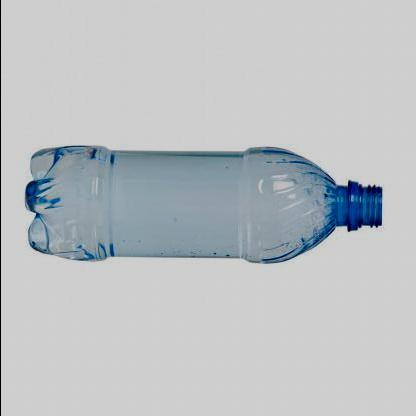bottle: (25, 143, 383, 264)
